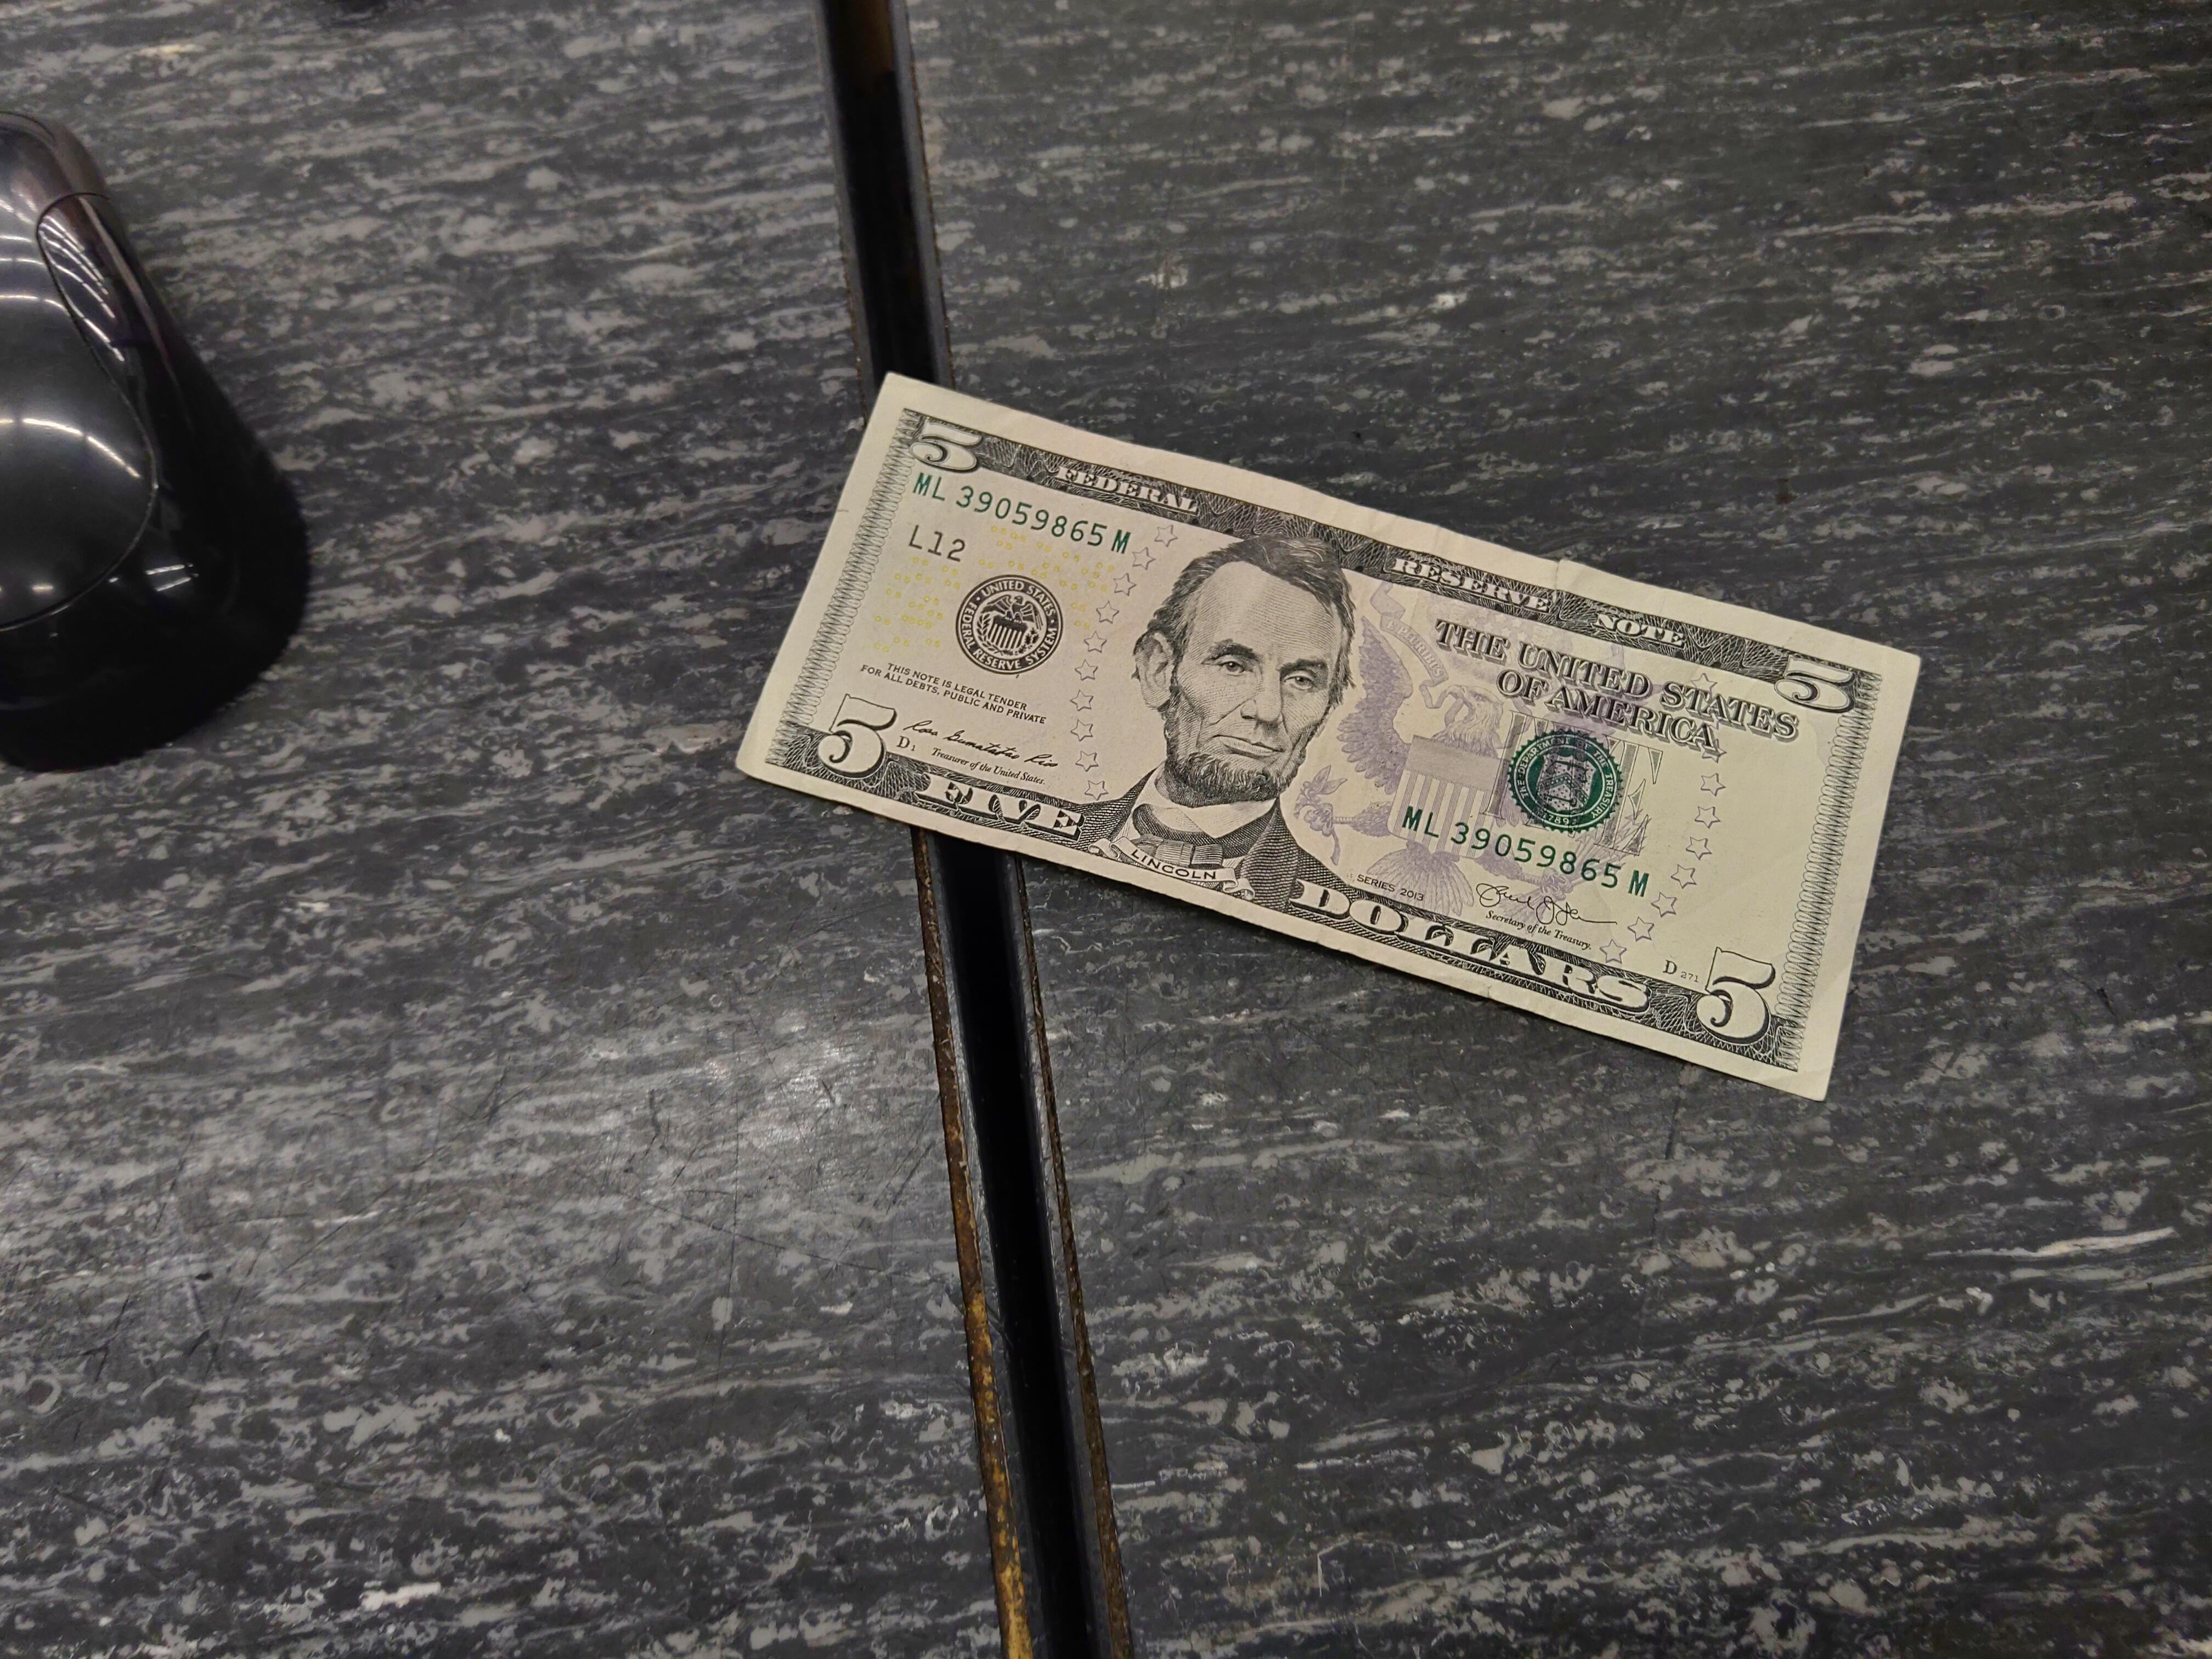FiveBill: (735, 366, 1925, 1105)
